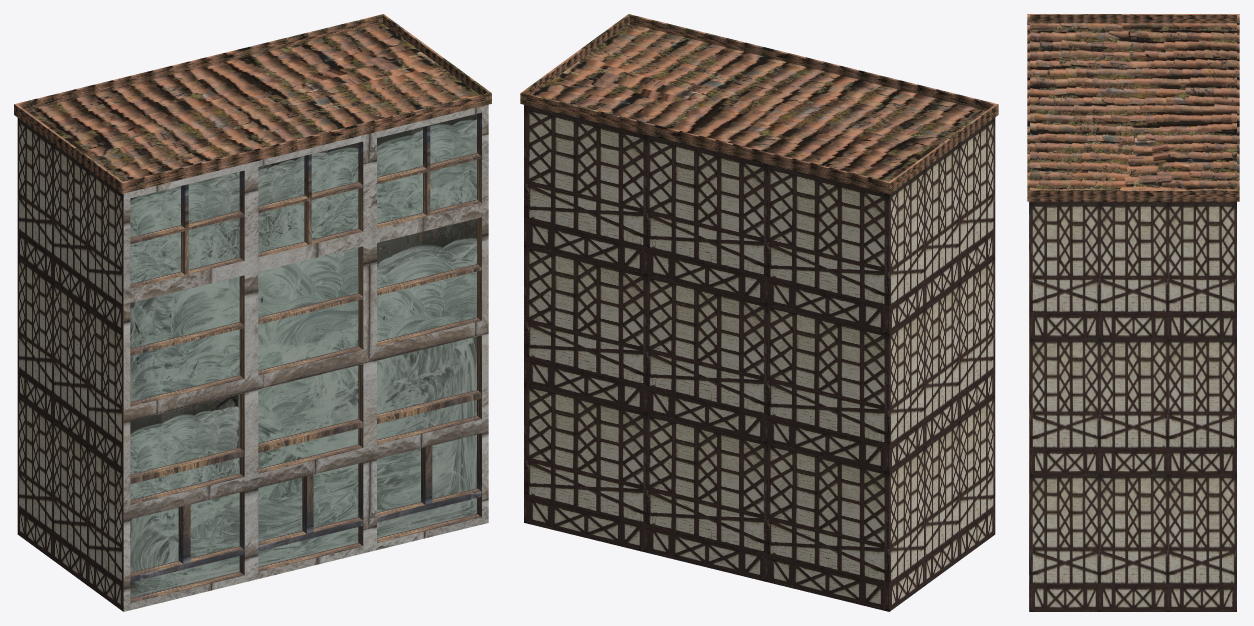
File: Skinny Build.fbx
3 views of the same model, side by side, from view 1: azimuth 30°, elevation 25°; view 2: azimuth 150°, elevation 25°; view 3: azimuth 270°, elevation 25° (orthographic).
Parts seen in each view (by area): view 1: Skinny; view 2: Skinny; view 3: Skinny.
Part boxes in pixels (bbox=[...]): Skinny: bbox=[14, 14, 491, 611]; Skinny: bbox=[520, 14, 998, 611]; Skinny: bbox=[1027, 14, 1239, 611].
Bounding box in the file's own units: 40.5 × 45 × 20.5.
